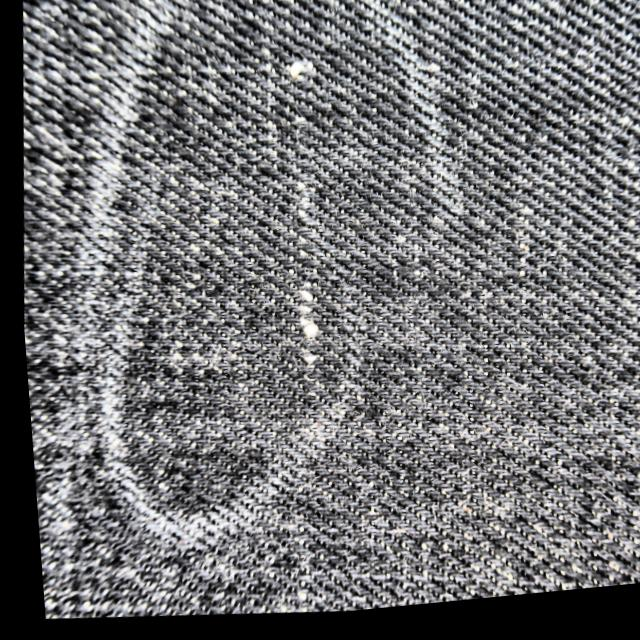Hole: (245, 0, 351, 193), (248, 243, 363, 409)
